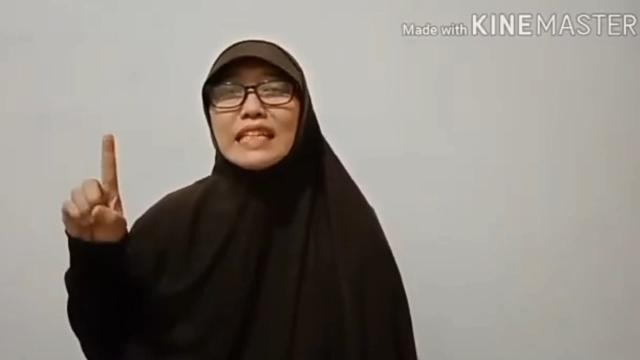D: (58, 132, 132, 244)
